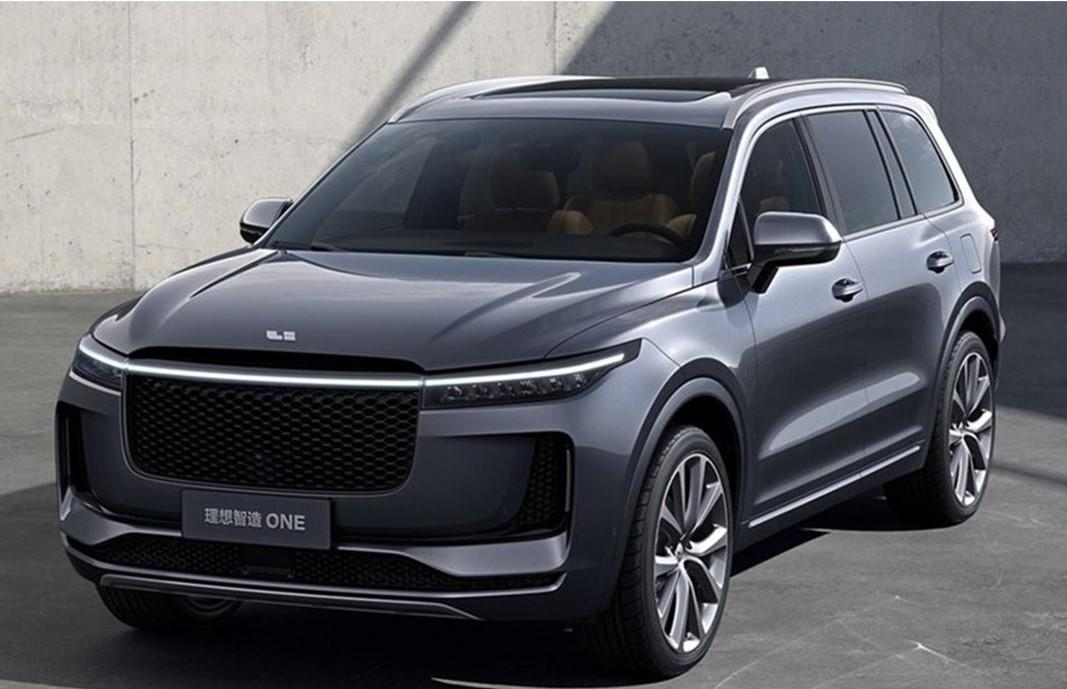Li Auto: (265, 328, 296, 343)
